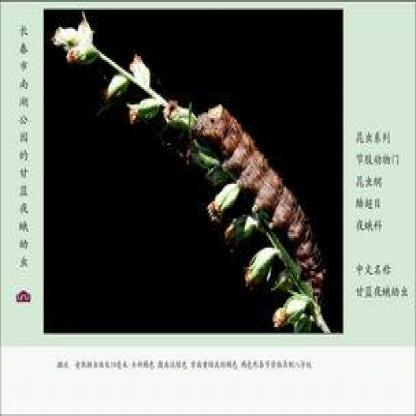armyworm: (188, 84, 336, 312)
